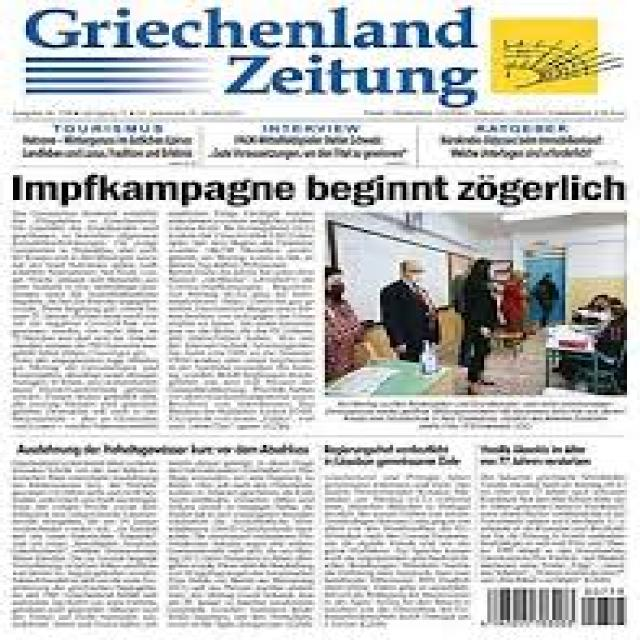paper: (21, 0, 640, 639)
